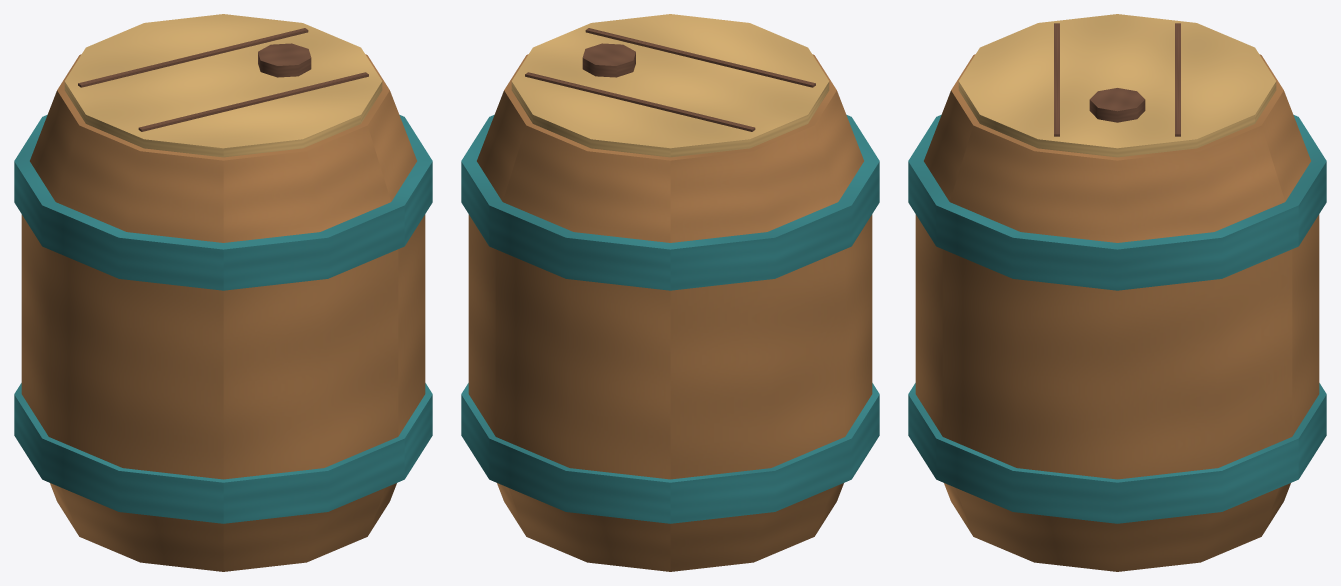
File: camp-barrel.glb
The picture shows the model from 3 angles, left to right: view 1: azimuth 30°, elevation 25°; view 2: azimuth 150°, elevation 25°; view 3: azimuth 270°, elevation 25°; orthographic projection.
Parts seen in each view (by area): view 1: camp-barrel-mesh; view 2: camp-barrel-mesh; view 3: camp-barrel-mesh.
Boxes of the visible parts, x1,y1,x2,y2 form: camp-barrel-mesh: (14,14,432,571); camp-barrel-mesh: (461,14,879,571); camp-barrel-mesh: (908,14,1326,571).
Size of the model in its own units: 0.83 by 0.945 by 0.83.
Materials: 1 (1 with a texture image).
